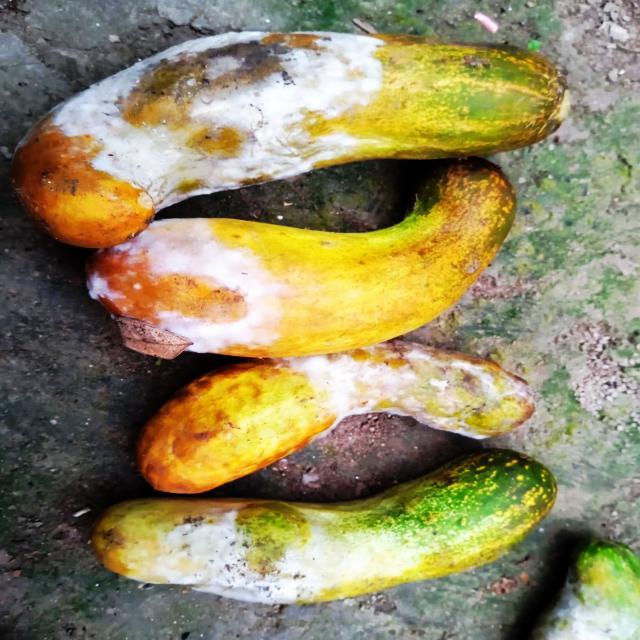Pythium-Fruit-Rot: (19, 26, 428, 222), (67, 212, 296, 360), (284, 332, 575, 441), (155, 492, 372, 610), (535, 561, 640, 640)
